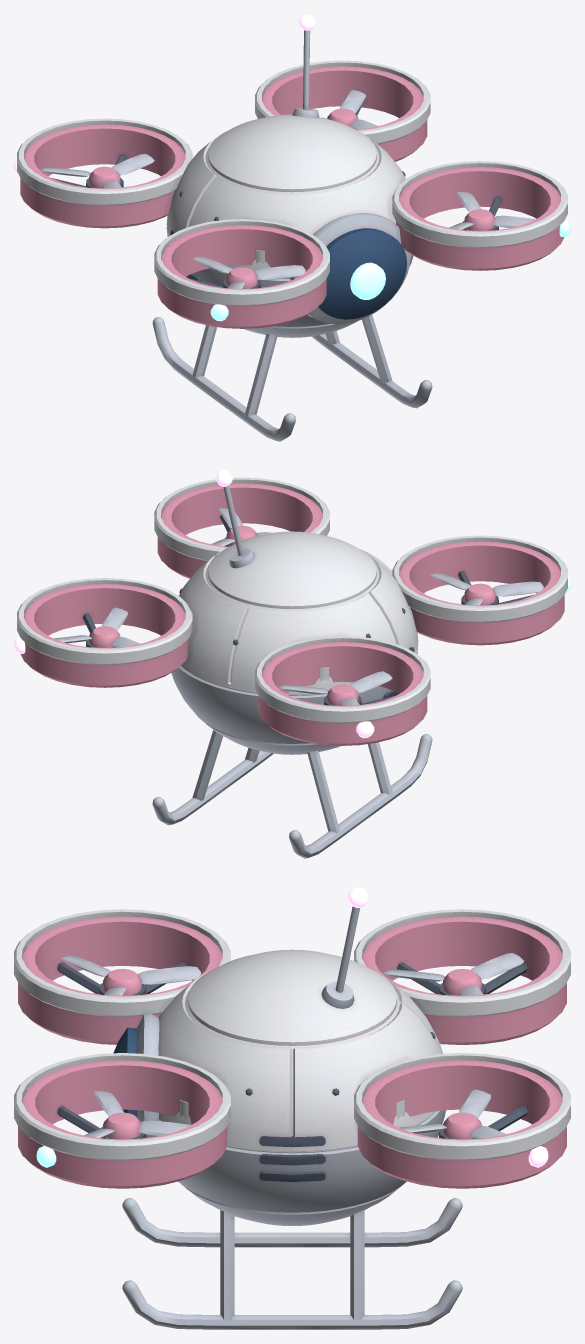
Rendered from dron.glb.
3 renders of one model, top to bottom at view 1: azimuth 30°, elevation 25°; view 2: azimuth 150°, elevation 25°; view 3: azimuth 270°, elevation 25°, orthographic. The views are drawn at different scales.
Visible parts, largest first — view 1: space-drone_body; view 2: space-drone_body; view 3: space-drone_body.
Part boxes in pixels (x1,y1,x2,y2): space-drone_body: (14,14,570,441); space-drone_body: (14,470,570,858); space-drone_body: (14,887,570,1329).
Size of the model in its own units: 0.8593 by 0.7215 by 0.8574.
8 materials, 5 textured.
